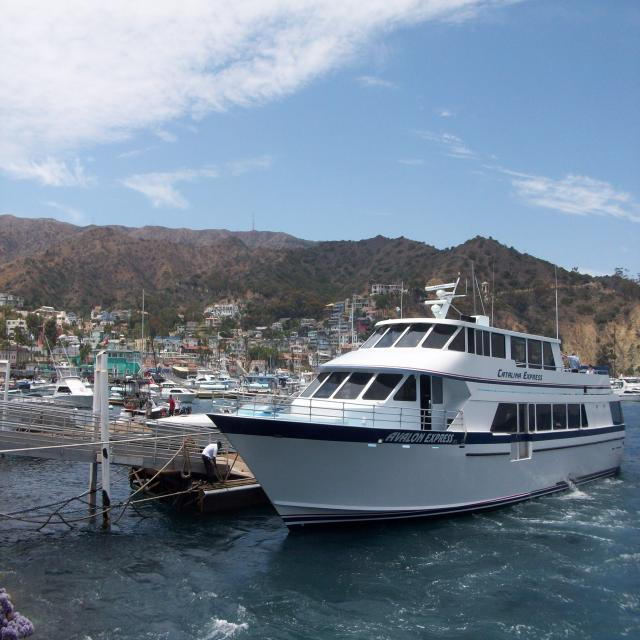houseboat: (207, 280, 624, 530)
